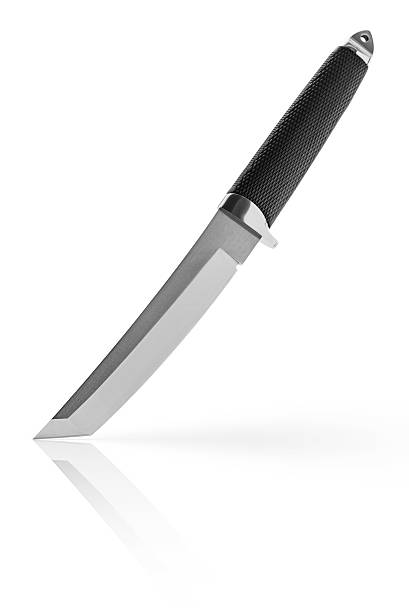knife: (30, 29, 373, 439)
